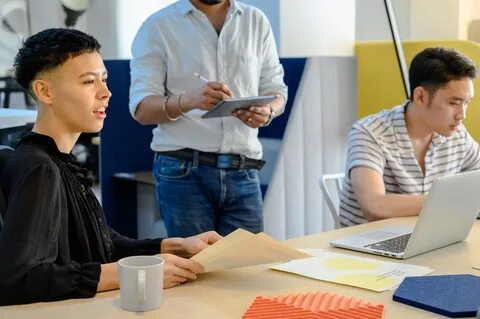awake: (1, 27, 140, 302), (127, 1, 288, 237), (336, 44, 480, 224)
